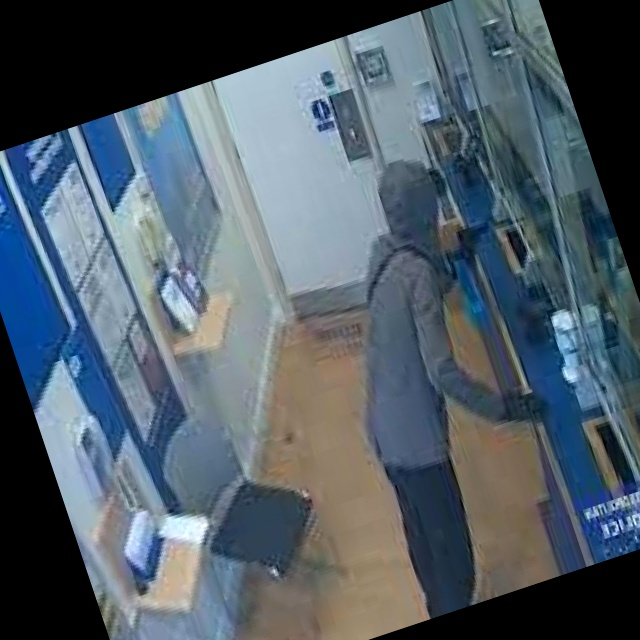gun: (441, 200, 505, 274)
